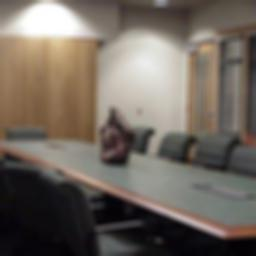Otro Obstaculo: (95, 104, 139, 170)
Puerta: (183, 43, 212, 160)
